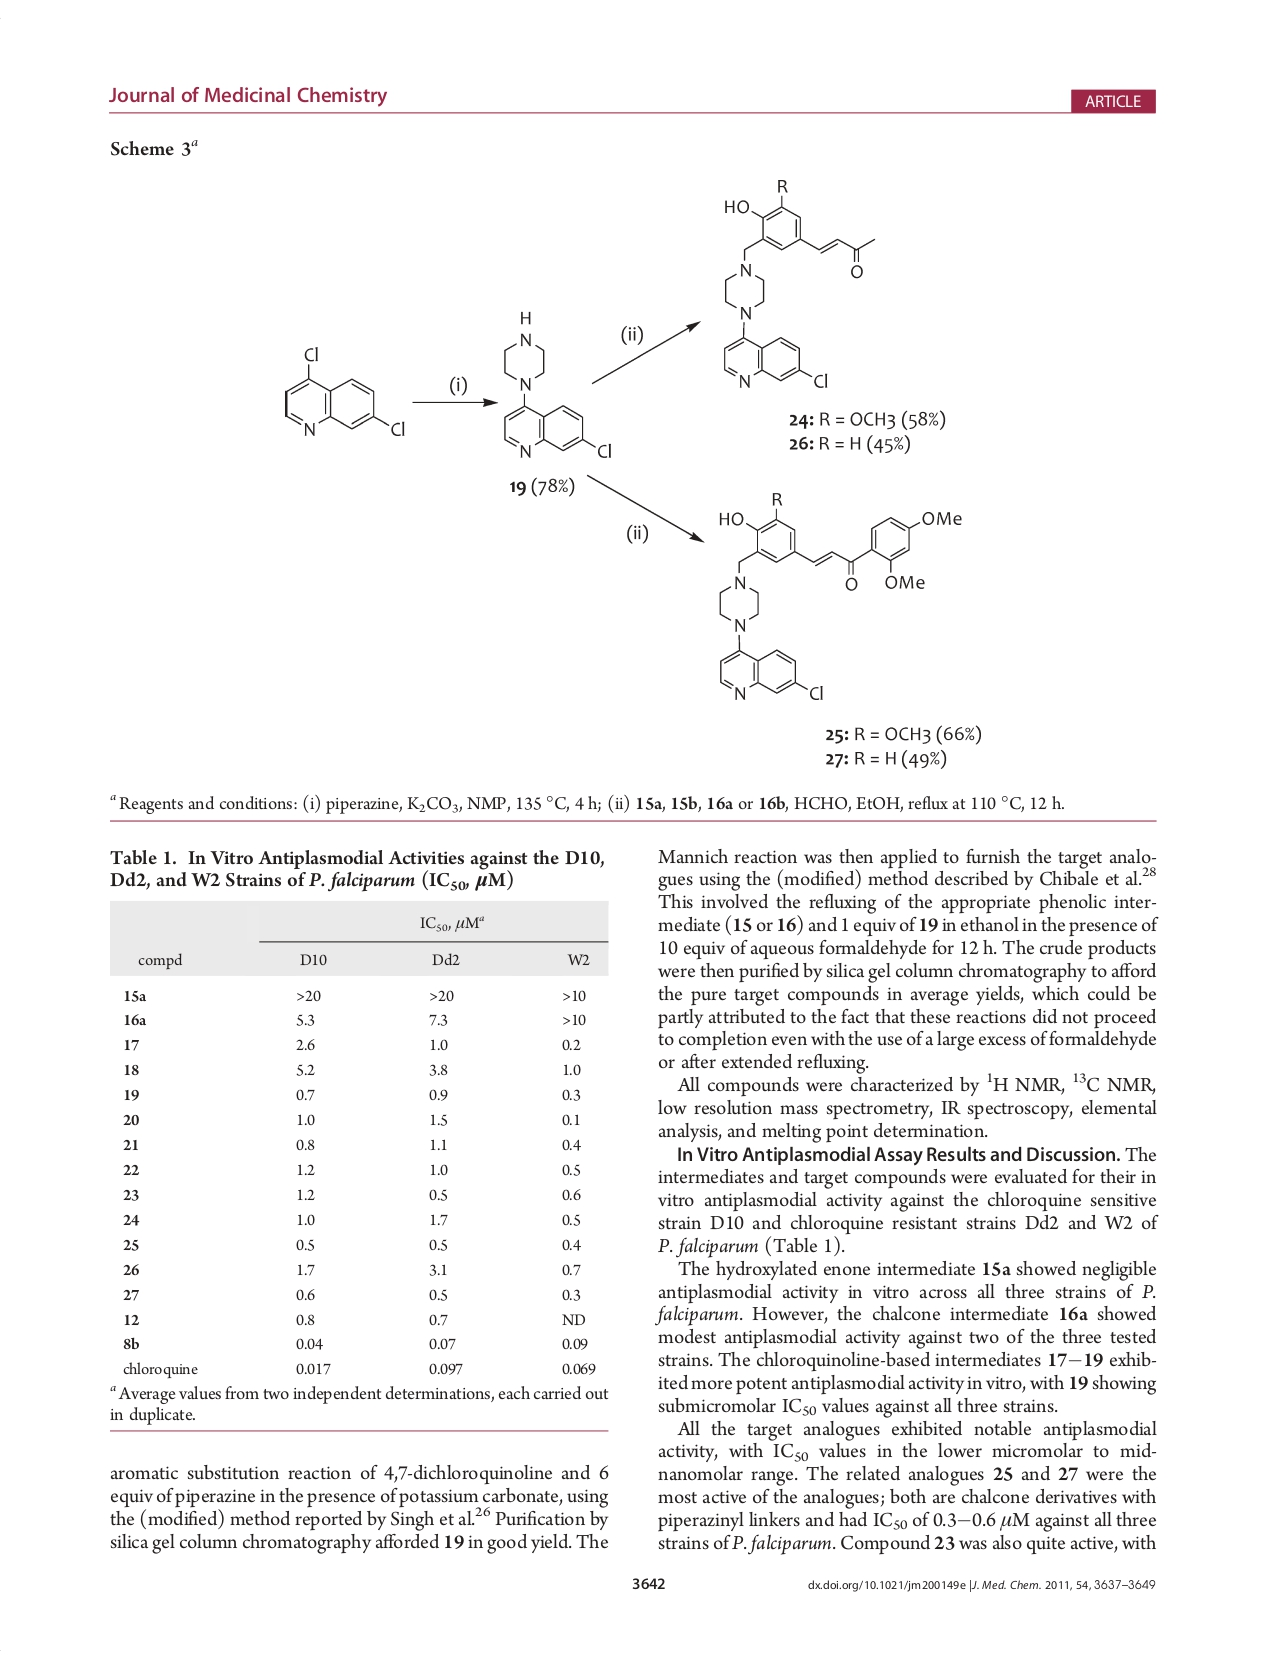exist_molecular: (710, 485, 965, 709), (715, 172, 876, 394), (497, 307, 616, 460), (277, 338, 410, 442)
